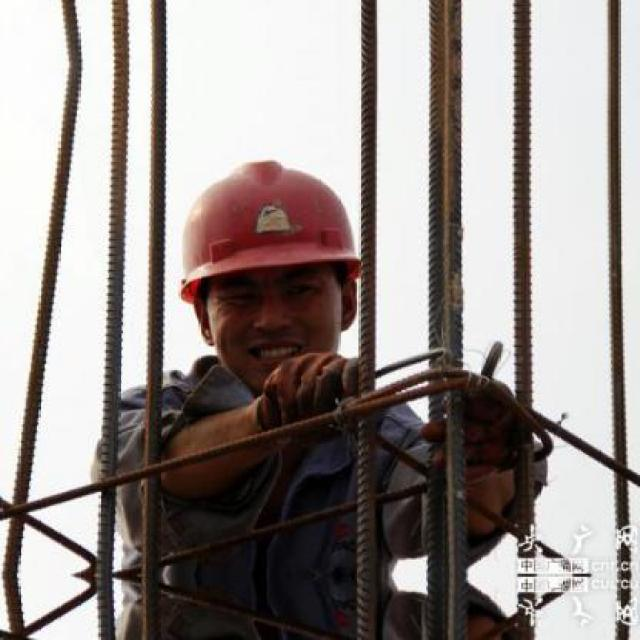helmet: (160, 137, 372, 396)
